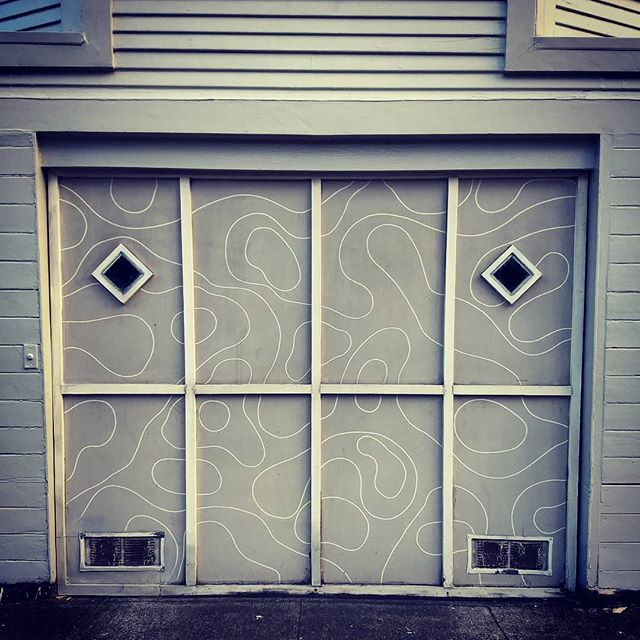door: (37, 140, 594, 601)
